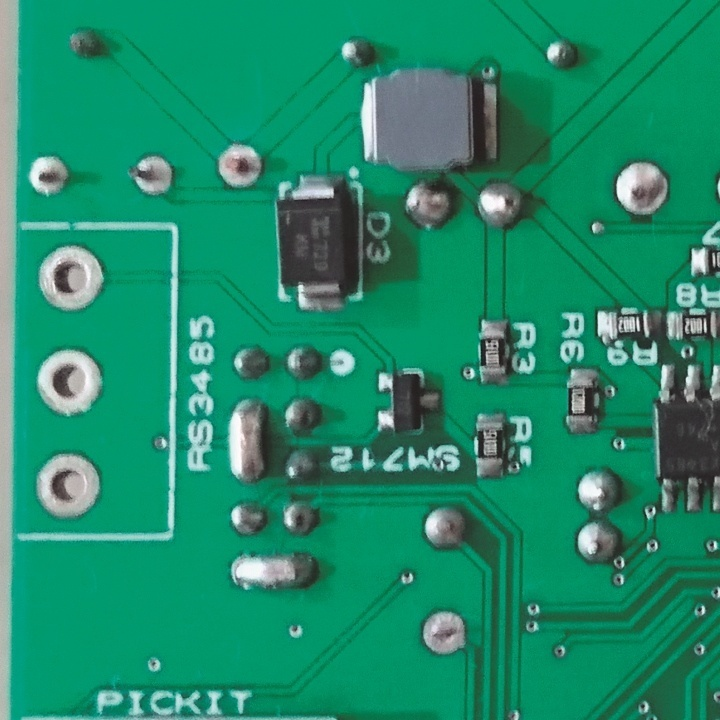F: (30, 449, 105, 524), (33, 348, 109, 418), (35, 244, 107, 313), (609, 155, 673, 218), (417, 607, 469, 660), (211, 143, 264, 192), (124, 152, 177, 198), (24, 151, 72, 198)
P: (227, 550, 322, 595), (225, 395, 270, 485)
